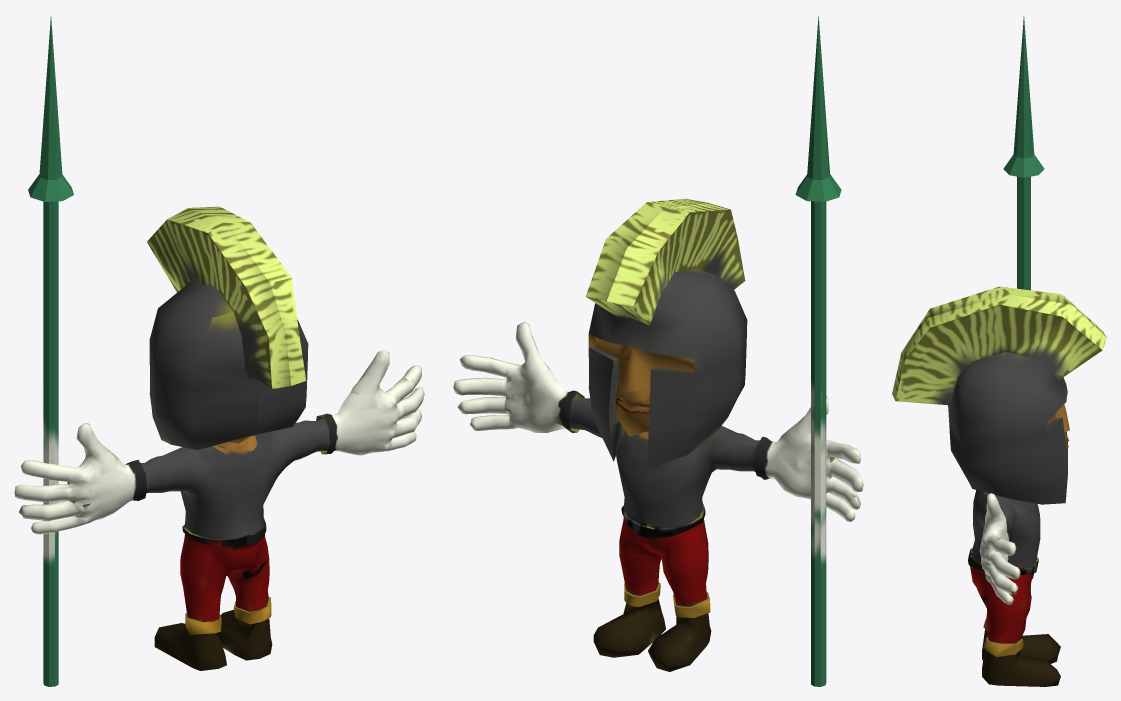
Rendered from testiram.fbx.
3 views of the same model, side by side, from view 1: azimuth 30°, elevation 25°; view 2: azimuth 150°, elevation 25°; view 3: azimuth 270°, elevation 25° (orthographic). The views are drawn at different scales.
Visible parts, largest first — view 1: BODY, Cone; view 2: BODY, Cone; view 3: BODY, Cone.
Boxes of the visible parts, box(x1,y1,x2,y2) form: BODY: box(14, 206, 424, 670); Cone: box(28, 16, 73, 686); BODY: box(453, 198, 863, 671); Cone: box(795, 16, 841, 686); BODY: box(892, 286, 1106, 686); Cone: box(1003, 16, 1044, 592).
Bounding box in the file's own units: 215 × 339 × 112.
